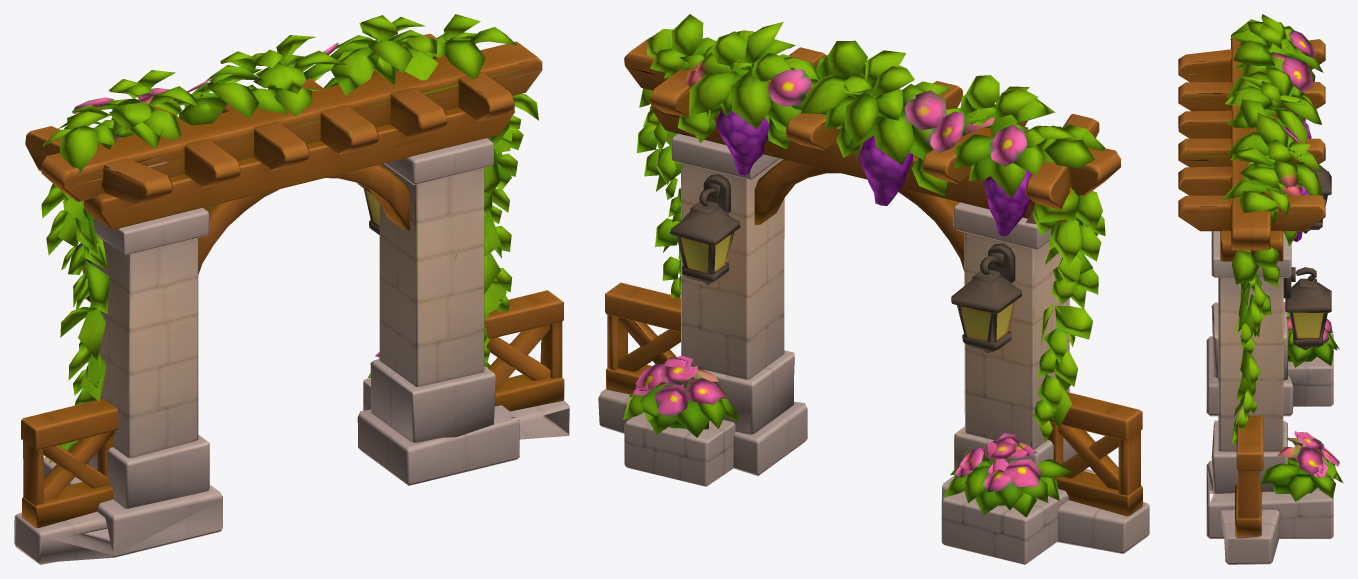
File: gate_vine.glb
3 renders of one model, left to right at view 1: azimuth 30°, elevation 25°; view 2: azimuth 150°, elevation 25°; view 3: azimuth 270°, elevation 25°, orthographic. The views are drawn at different scales.
Visible parts, largest first — view 1: geometry_0; view 2: geometry_0; view 3: geometry_0.
Boxes of the visible parts, x1,y1,x2,y2 form: geometry_0: (14, 14, 569, 564); geometry_0: (598, 14, 1149, 564); geometry_0: (1178, 14, 1343, 564).
Bounding box in the file's own units: 0.9624 × 0.7749 × 0.3062.
1 material, 1 textured.
